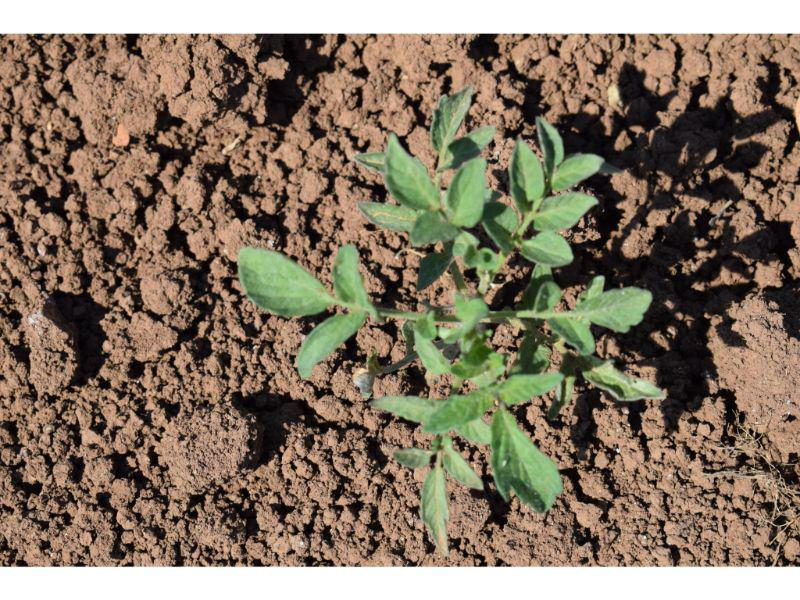tomato: (234, 83, 668, 552)
